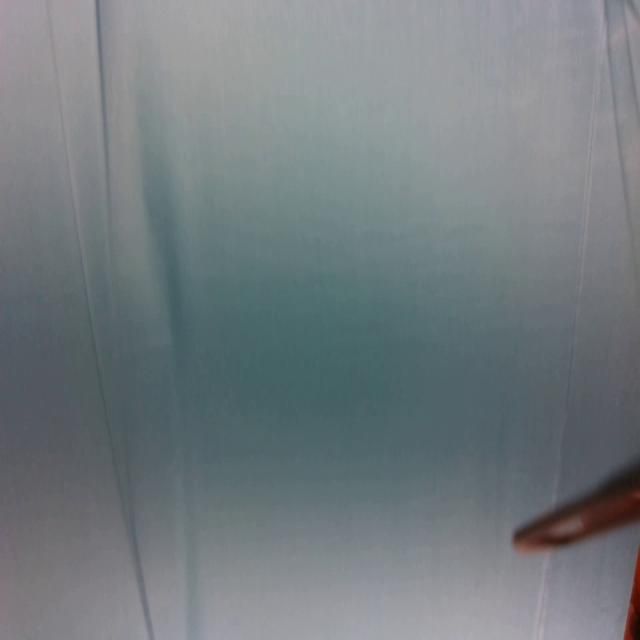crease: (46, 0, 155, 640), (554, 3, 613, 481), (92, 0, 118, 264), (534, 544, 554, 640)
